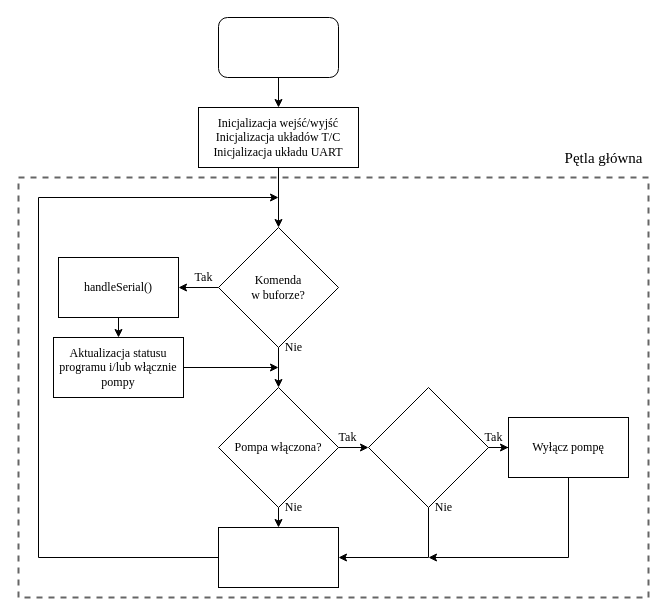
Some shapes in this 666 by 616 pixel diagram are drawn without their labels. The shapes that lost their labels are listed below. From the top down, each one's box as (x1, y1, x2, y2) in pixels, then its label:
(218, 16, 338, 78): Zasilenie układu i start programu
(368, 386, 488, 508): Minął zadany czas pompowania?
(218, 526, 338, 588): checkMotorStatus()
